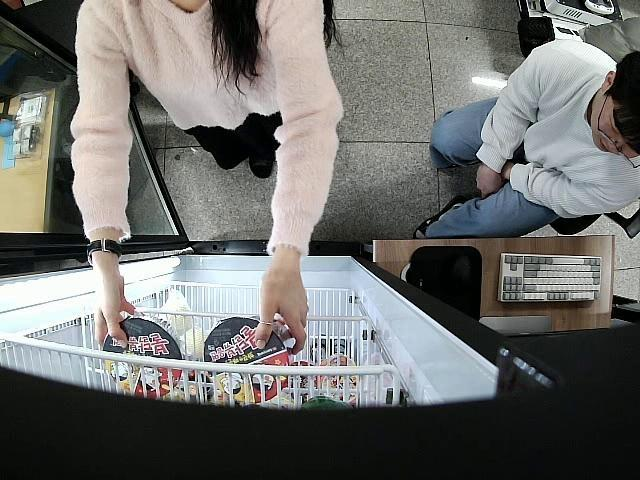07_buldak_L: (204, 315, 290, 402), (102, 314, 180, 396)
